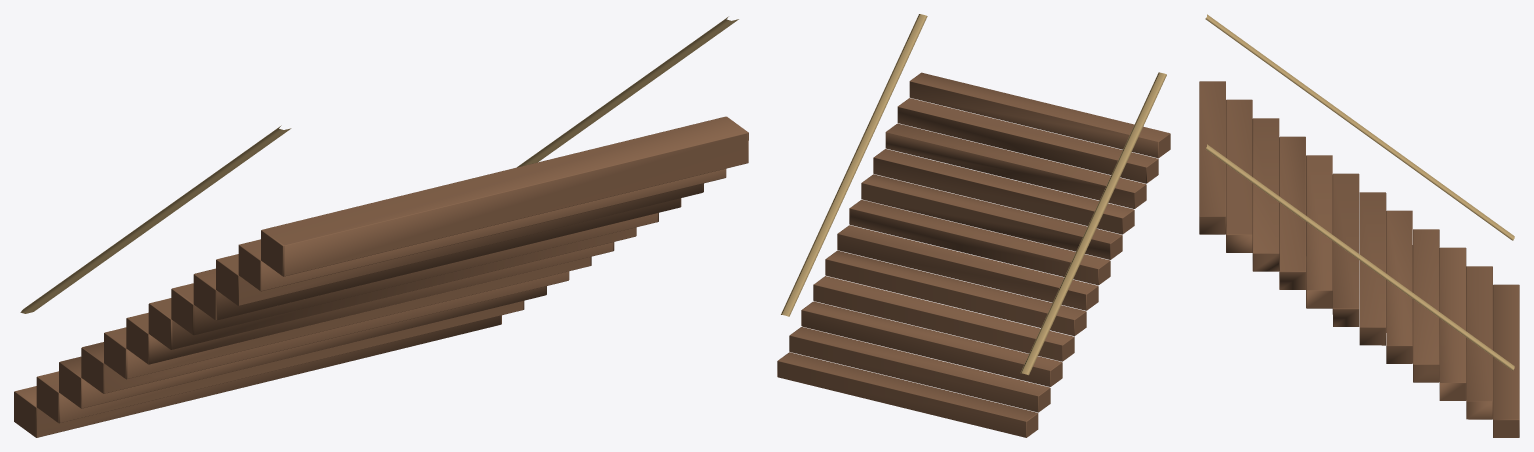
File: stairs-18-2.lod.glb
3 views of the same model, side by side, from view 1: azimuth 30°, elevation 25°; view 2: azimuth 150°, elevation 25°; view 3: azimuth 270°, elevation 25° (orthographic). The views are drawn at different scales.
Parts seen in each view (by area): view 1: tread, part; view 2: tread, part; view 3: tread, part.
Part boxes in pixels (x1,y1,x2,y2): tread: (14, 116, 748, 437); part: (20, 16, 738, 313); tread: (777, 72, 1170, 437); part: (781, 14, 1166, 375); tread: (1199, 81, 1519, 437); part: (1205, 14, 1514, 370).
Size of the model in its own units: 1 by 1 by 1.
